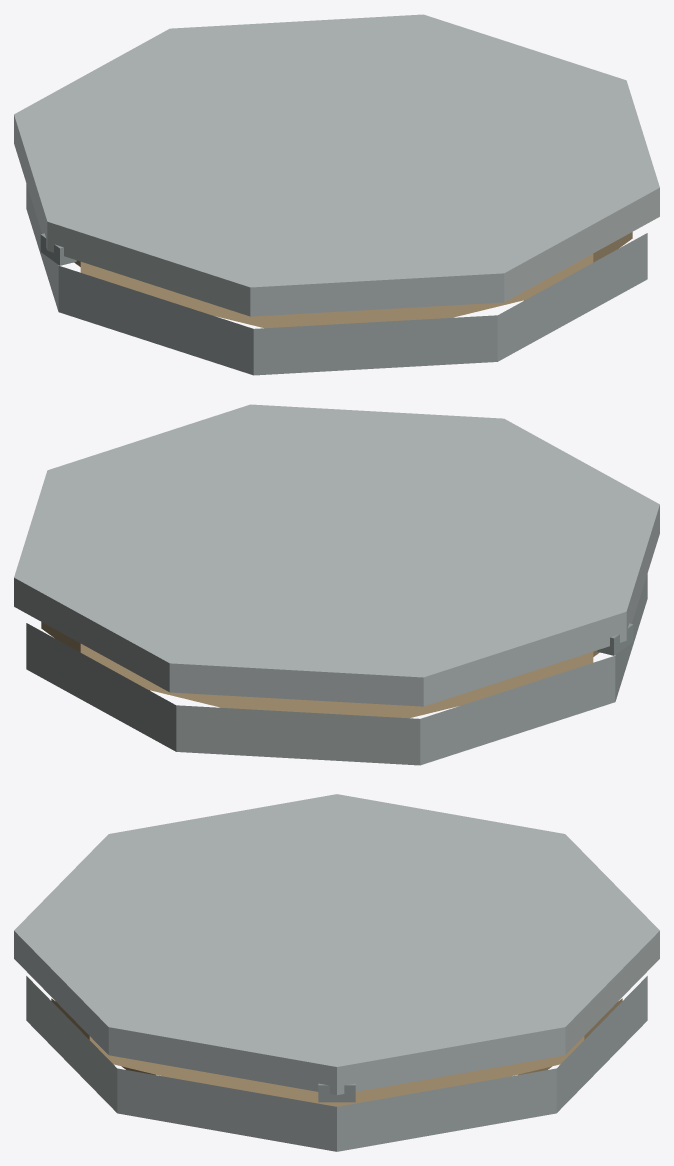
Rendered from tardigrade_pond.glb.
3 views of the same model, one above another, from view 1: azimuth 30°, elevation 25°; view 2: azimuth 150°, elevation 25°; view 3: azimuth 270°, elevation 25° (orthographic). The views are drawn at different scales.
Parts seen in each view (by area): view 1: 876-petri-dish; view 2: 876-petri-dish; view 3: 876-petri-dish.
Boxes of the visible parts, left/top/right/bottom form: 876-petri-dish: left=14, top=14, right=659, bottom=375; 876-petri-dish: left=14, top=404, right=659, bottom=765; 876-petri-dish: left=14, top=794, right=659, bottom=1151.
Size of the model in its own units: 0.104 by 0.016 by 0.104.
